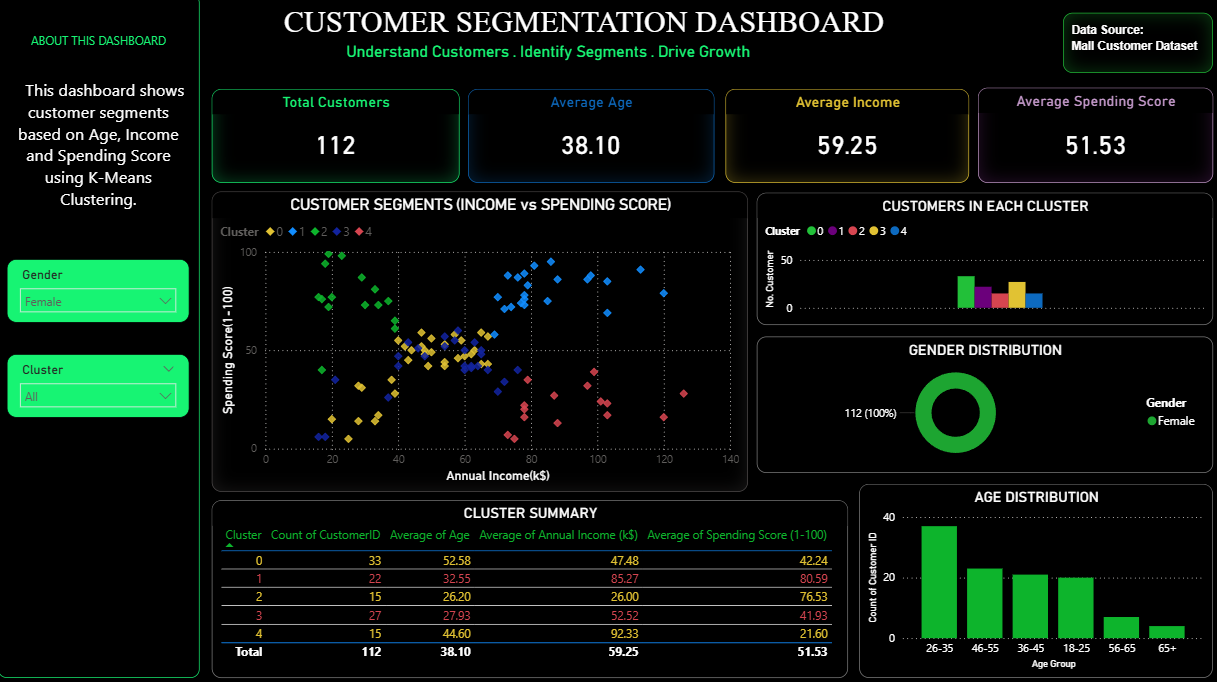

The page's visual inventory and layout, read from the dashboard file:
{"tool":"powerbi","page":{"name":"Page 1","canvas":[1400,790],"ordinal":0},"visuals":[{"type":"textbox","title":"CUSTOMER SEGMENTATION DASHBOARD","box":[317.5,11.2,705,60],"z":0},{"type":"textbox","title":"Understand Customers . Identify Segments . Drive Growth","box":[296.2,56.2,666.2,30],"z":1000},{"type":"textbox","box":[0,0,230,781.4],"z":2000},{"type":"slicer","fields":{"Values":["customer_segments.Gender"]},"box":[10,302.9,208.6,72.9],"z":3000},{"type":"slicer","fields":{"Values":["customer_segments.Cluster"]},"box":[10,411.4,208.6,72.9],"z":4000},{"type":"card","title":"Total Customers","fields":{"Values":["CountNonNull(customer_segments.CustomerID)"]},"box":[244.3,108.6,282.9,107.1],"z":5000},{"type":"card","title":"Average Age","fields":{"Values":["Avg(customer_segments.Age)"]},"box":[537.1,108.6,281.4,107.1],"z":6000},{"type":"card","title":"Average Income","fields":{"Values":["Avg(customer_segments.Annual Income (k$))"]},"box":[831.4,108.6,278.6,107.1],"z":7000},{"type":"card","title":"Average Spending Score","fields":{"Values":["Avg(customer_segments.Spending Score (1-100))"]},"box":[1120,107.1,268.6,108.6],"z":8000},{"type":"textbox","box":[1217.1,21.4,171.4,68.6],"z":9000},{"type":"scatterChart","title":"CUSTOMER SEGMENTS (INCOME vs SPENDING SCORE)","fields":{"X":["customer_segments.Annual Income (k$)"],"Y":["customer_segments.Spending Score (1-100)"],"Series":["customer_segments.Cluster"]},"box":[244.3,225.7,612.9,342.9],"z":10000},{"type":"tableEx","title":"CLUSTER SUMMARY","fields":{"Values":["customer_segments.Cluster","CountNonNull(customer_segments.CustomerID)","Avg(customer_segments.Age)","Avg(customer_segments.Annual Income (k$))","Avg(customer_segments.Spending Score (1-100))"]},"box":[244.3,578.6,727.1,202.9],"z":11000},{"type":"columnChart","title":"AGE DISTRIBUTION","fields":{"Y":["CountNonNull(customer_segments.CustomerID)"],"Category":["customer_segments.Age Group"]},"box":[984.3,560,404.3,221.4],"z":12000},{"type":"donutChart","title":"GENDER DISTRIBUTION","fields":{"Category":["customer_segments.Gender"],"Y":["CountNonNull(customer_segments.CustomerID)"]},"box":[867.1,391.4,521.4,155.7],"z":13000},{"type":"clusteredColumnChart","title":"CUSTOMERS IN EACH CLUSTER","fields":{"Y":["CountNonNull(customer_segments.CustomerID)"],"Series":["customer_segments.Cluster"]},"box":[867,227.7,521.6,150.9],"z":14000}]}

Visuals, with their boxes in screenshot pixels (x1, y1, x2, y2), scaled from the page's 1400x790 canvas onto the 1217x682 screenshot:
"CUSTOMER SEGMENTATION DASHBOARD" textbox: <bbox>276, 10, 889, 61</bbox>
"Understand Customers . Identify Segments . Drive Growth" textbox: <bbox>257, 49, 837, 74</bbox>
textbox: <bbox>0, 0, 200, 675</bbox>
slicer - customer_segments.Gender: <bbox>9, 261, 190, 324</bbox>
slicer - customer_segments.Cluster: <bbox>9, 355, 190, 418</bbox>
"Total Customers" card: <bbox>212, 94, 458, 186</bbox>
"Average Age" card: <bbox>467, 94, 712, 186</bbox>
"Average Income" card: <bbox>723, 94, 965, 186</bbox>
"Average Spending Score" card: <bbox>974, 92, 1207, 186</bbox>
textbox: <bbox>1058, 18, 1207, 78</bbox>
"CUSTOMER SEGMENTS (INCOME vs SPENDING SCORE)" scatterChart: <bbox>212, 195, 745, 491</bbox>
"CLUSTER SUMMARY" tableEx: <bbox>212, 500, 844, 675</bbox>
"AGE DISTRIBUTION" columnChart: <bbox>856, 483, 1207, 675</bbox>
"GENDER DISTRIBUTION" donutChart: <bbox>754, 338, 1207, 472</bbox>
"CUSTOMERS IN EACH CLUSTER" clusteredColumnChart: <bbox>754, 197, 1207, 327</bbox>
